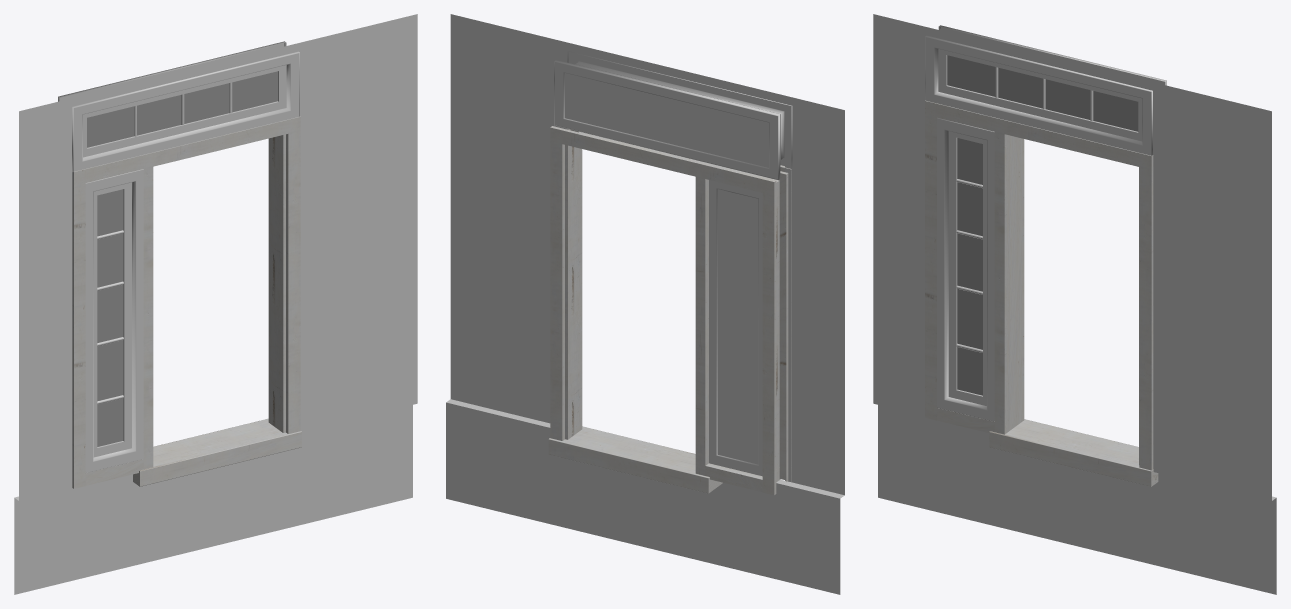
File: Wall_Door_Single_C_3x.FBX
3 views of the same model, side by side, from view 1: azimuth 30°, elevation 25°; view 2: azimuth 150°, elevation 25°; view 3: azimuth 330°, elevation 25° (orthographic).
Visible parts, largest first — view 1: Wall_Door_Single_C_3x; view 2: Wall_Door_Single_C_3x; view 3: Wall_Door_Single_C_3x.
Boxes of the visible parts, x1,y1,x2,y2 form: Wall_Door_Single_C_3x: (14, 14, 417, 594); Wall_Door_Single_C_3x: (446, 14, 844, 594); Wall_Door_Single_C_3x: (873, 14, 1276, 594).
Bounding box in the file's own units: 300 × 350 × 28.33.
